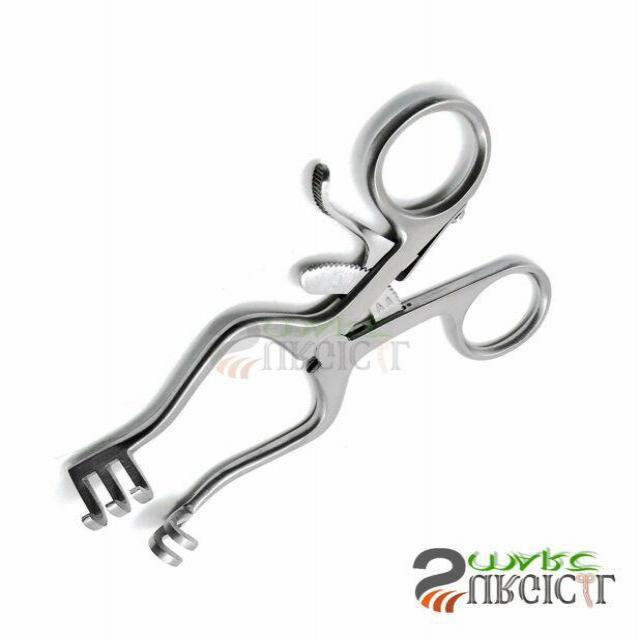Weitlaner: (63, 88, 554, 571)
